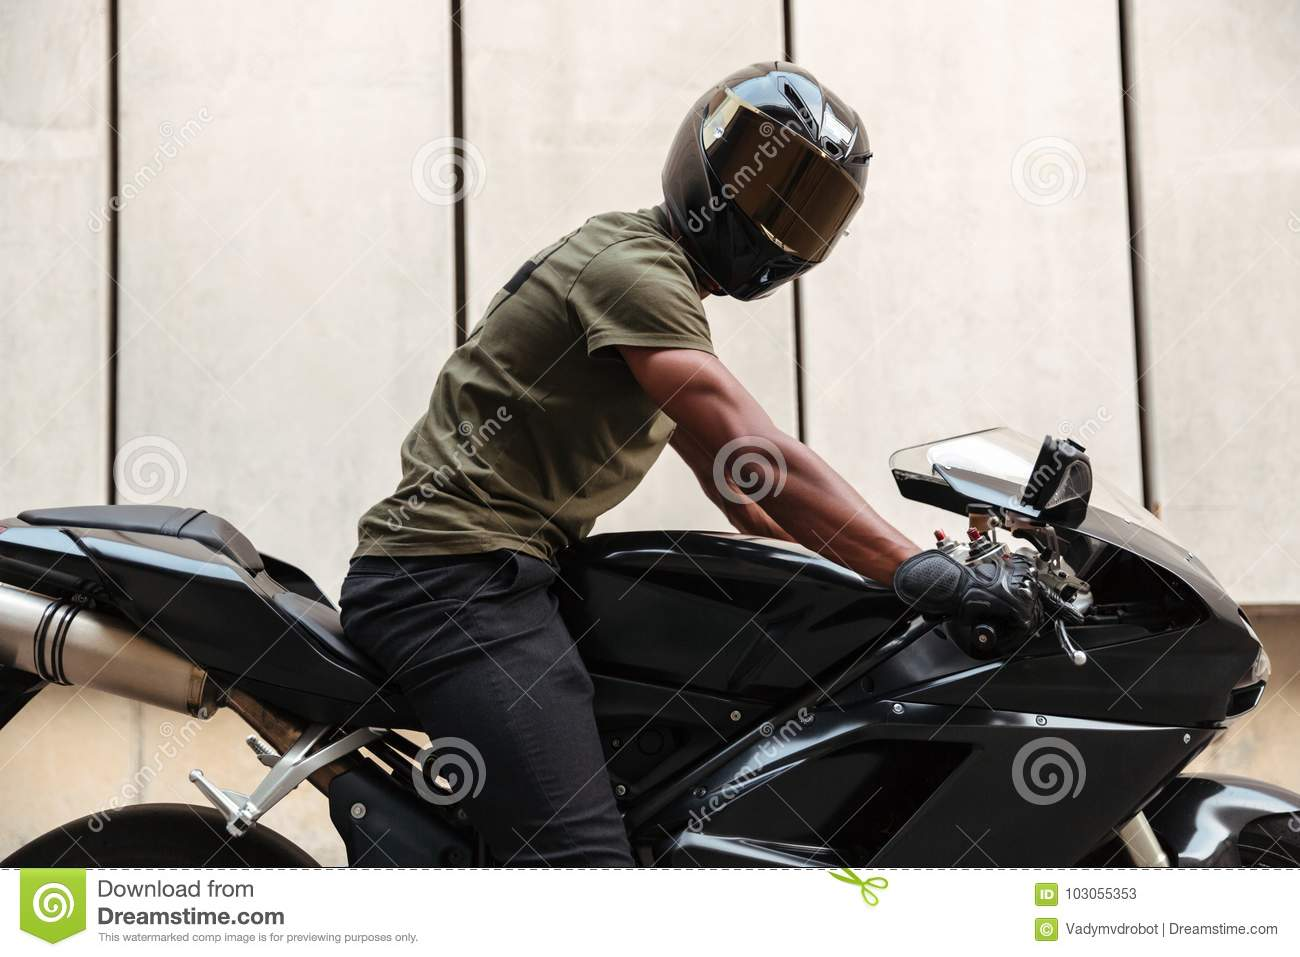helmet: (670, 46, 874, 311)
